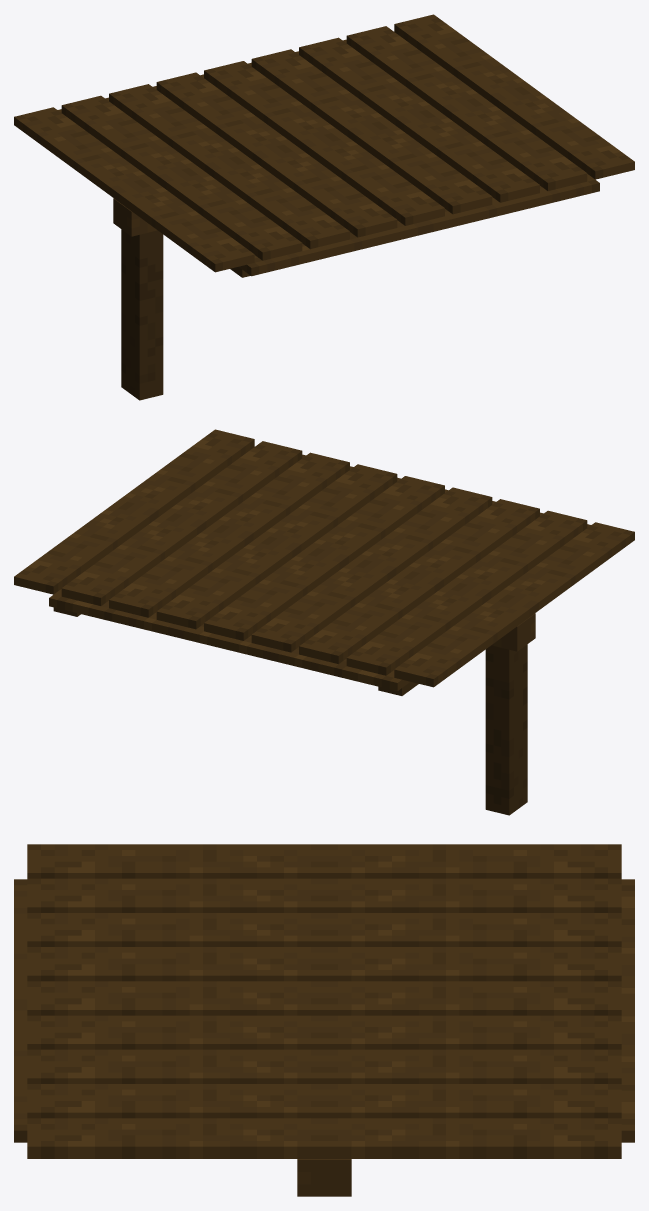
Rendered from SkeletonLair-1.obj.
3 views of the same model, one above another, from view 1: azimuth 30°, elevation 25°; view 2: azimuth 150°, elevation 25°; view 3: azimuth 270°, elevation 25° (orthographic). The views are drawn at different scales.
Size of the model in its own units: 5.3 by 2.5 by 4.6.
1 material, 1 textured.
